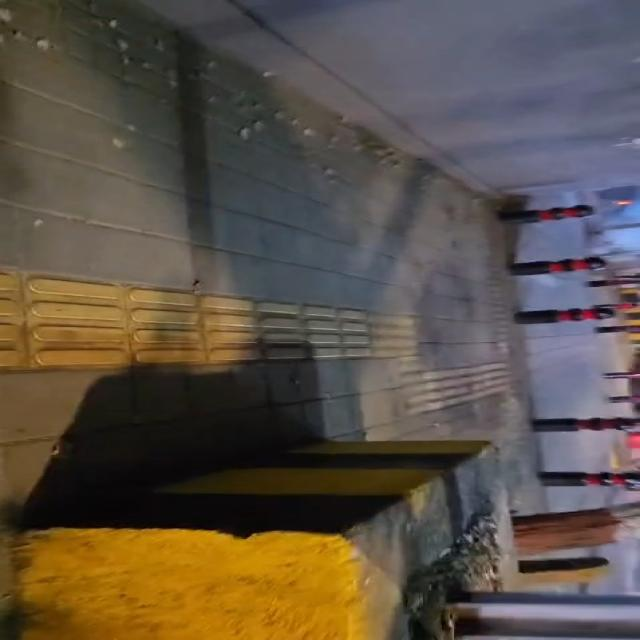obstacle: (0, 430, 612, 637), (454, 592, 639, 639), (515, 305, 615, 324), (509, 256, 606, 275), (539, 472, 639, 490), (499, 205, 594, 223), (533, 417, 639, 432), (533, 418, 639, 432), (587, 277, 639, 287), (595, 326, 639, 334), (602, 372, 639, 379), (608, 396, 639, 404)
